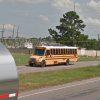Bus: (31, 39, 78, 67)
